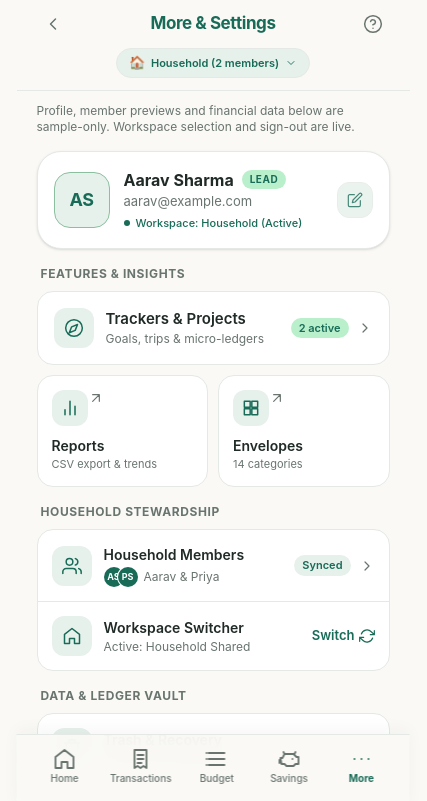
Test: MoreHubScreen › displays user feedback when clicking an unavailable feature
The width and height of the screenshot is (427, 801).
Click the button with aria-label "reports, not available yet".
click(122, 431)  # box top-left (36, 375), bottom-right (208, 487)
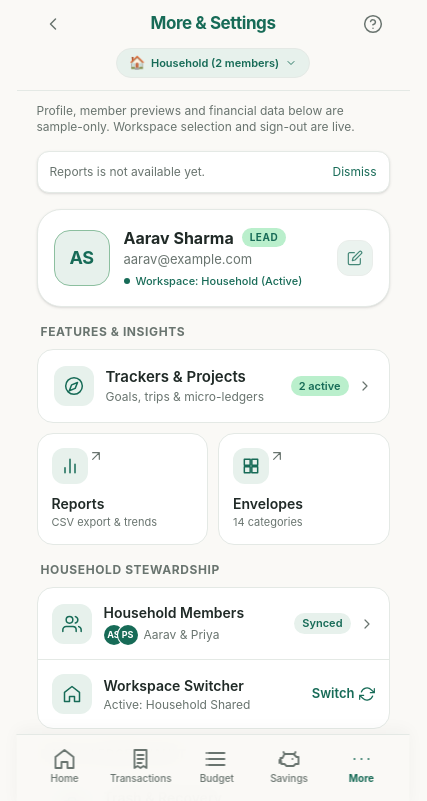
Now the message "Reports is not available yet. Dismiss" is shown, box top-left (36, 150), bottom-right (390, 192)
Now the text "Reports is not available yet." is shown, box top-left (50, 164), bottom-right (205, 180)
Click the button "Dismiss".
click(354, 172)  # box top-left (332, 164), bottom-right (376, 180)
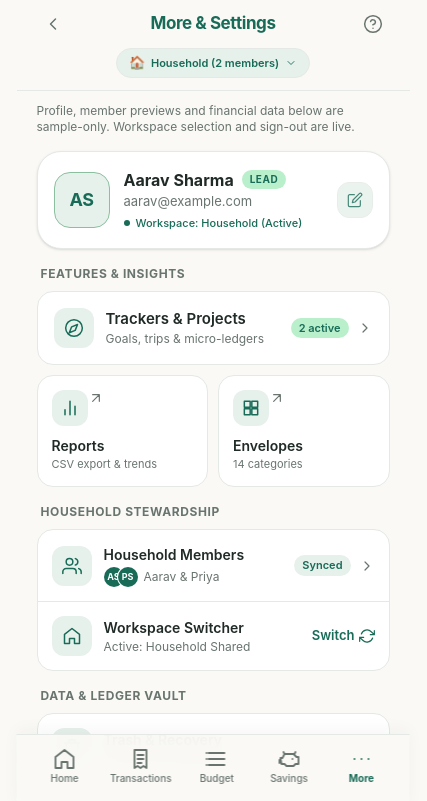
Now the message "Reports is not available yet. Dismiss" is gone
